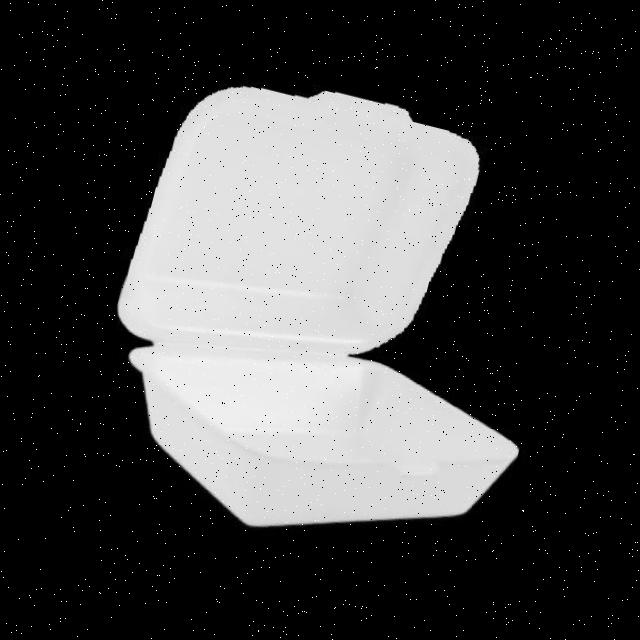styrofoam: (70, 48, 594, 586)
